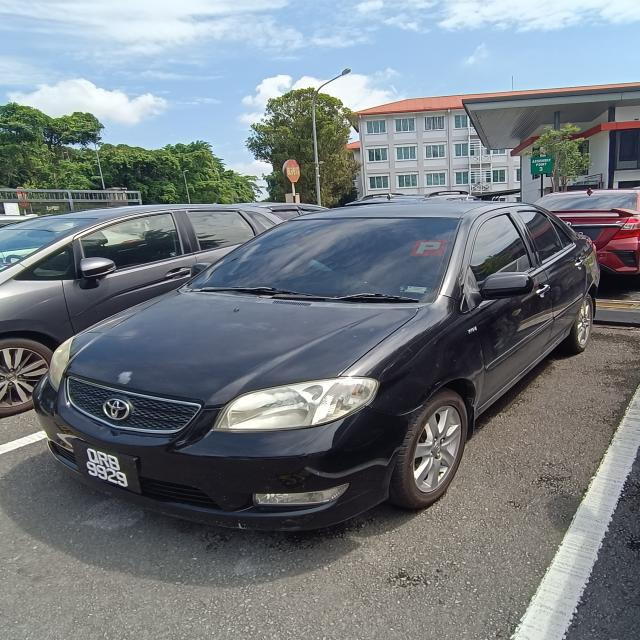ToyotaVios: (30, 192, 601, 533)
